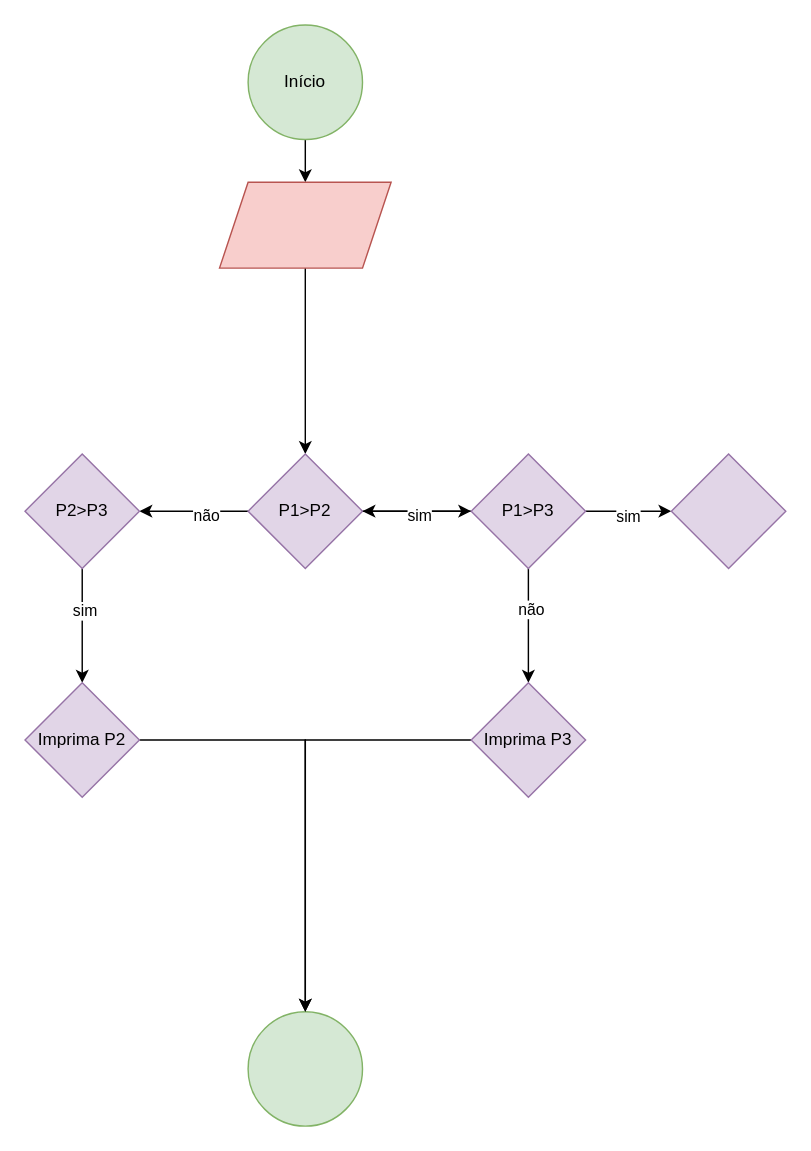
This 811x1151 diagram has some shape labels left out. The box of each missing label's shape, as (x1, y1, x2, y2) in pixels:
Fim: (247, 1010, 363, 1126)
Imprima P1: (670, 453, 786, 568)
ler: (218, 181, 391, 268)
